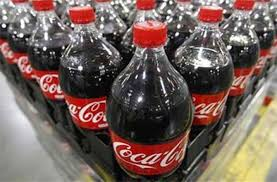coke-bottle-2l: (111, 18, 185, 179), (62, 6, 122, 143), (169, 5, 237, 122)
